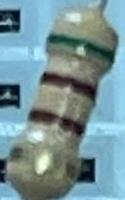Brown: (40, 70, 98, 102), (27, 108, 86, 139)
Green: (43, 32, 115, 64)
Side-Silver: (7, 144, 78, 181)
